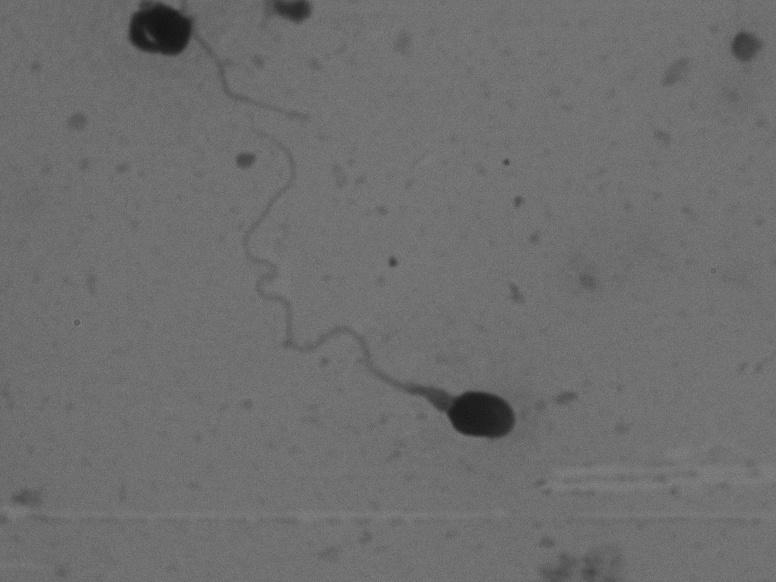Abnormal: (153, 107, 569, 490), (100, 3, 299, 115)
